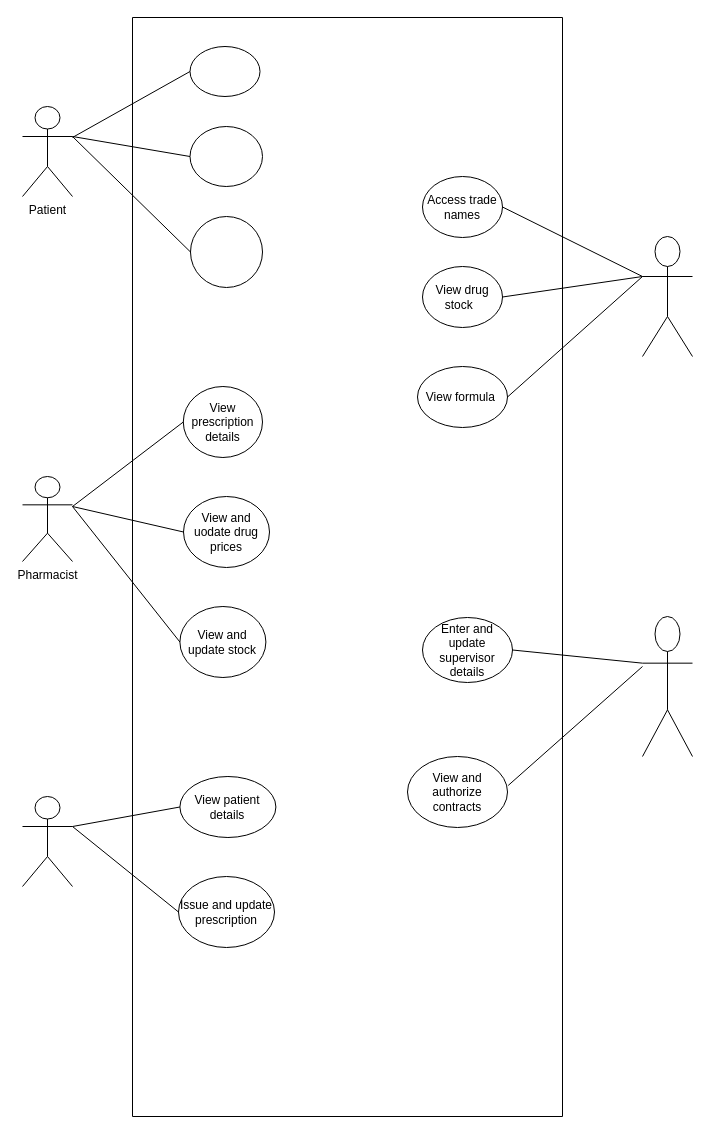
This 726x1134 diagram has some shape labels left out. Here are the shapes that lost their labels. From the top down, the box of each, then its label:
(189, 46, 260, 96): Enter/edit user data
(189, 126, 262, 186): Get doctor's details
(190, 216, 262, 288): View presciption details
(642, 236, 692, 356): Pharmaceutical company
(642, 616, 692, 756): Supervisor
(22, 796, 72, 886): Doctor
